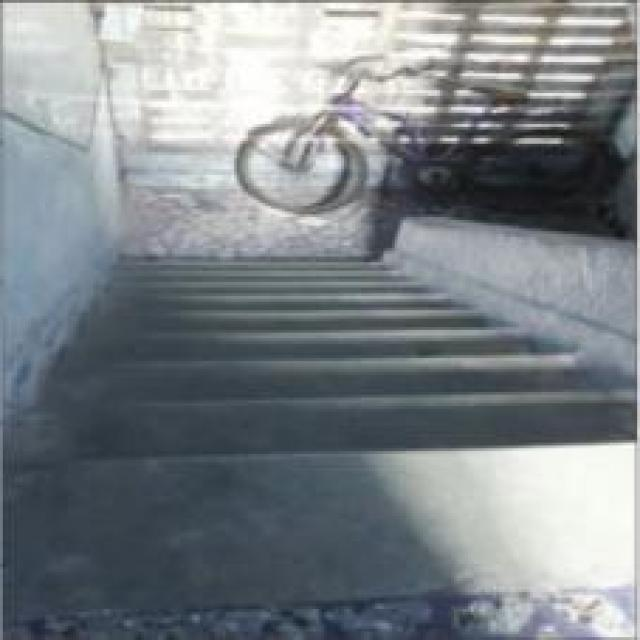downstair: (86, 308, 526, 545)
